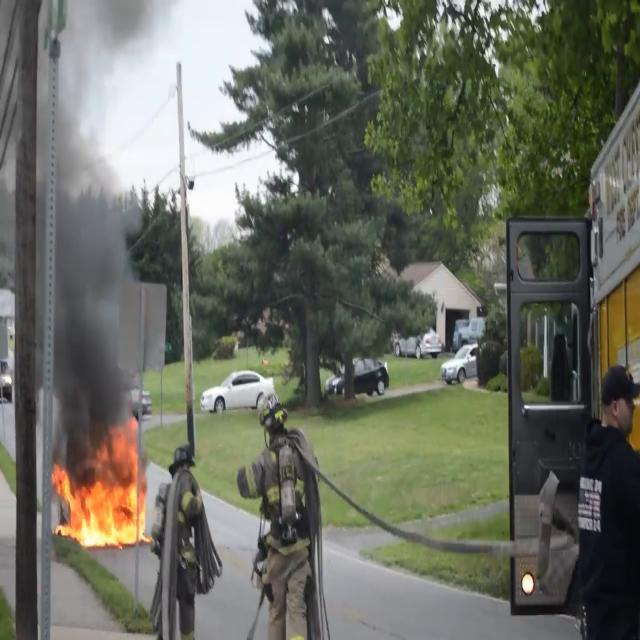Fire: (54, 428, 150, 552)
Smoke: (23, 8, 144, 454)
